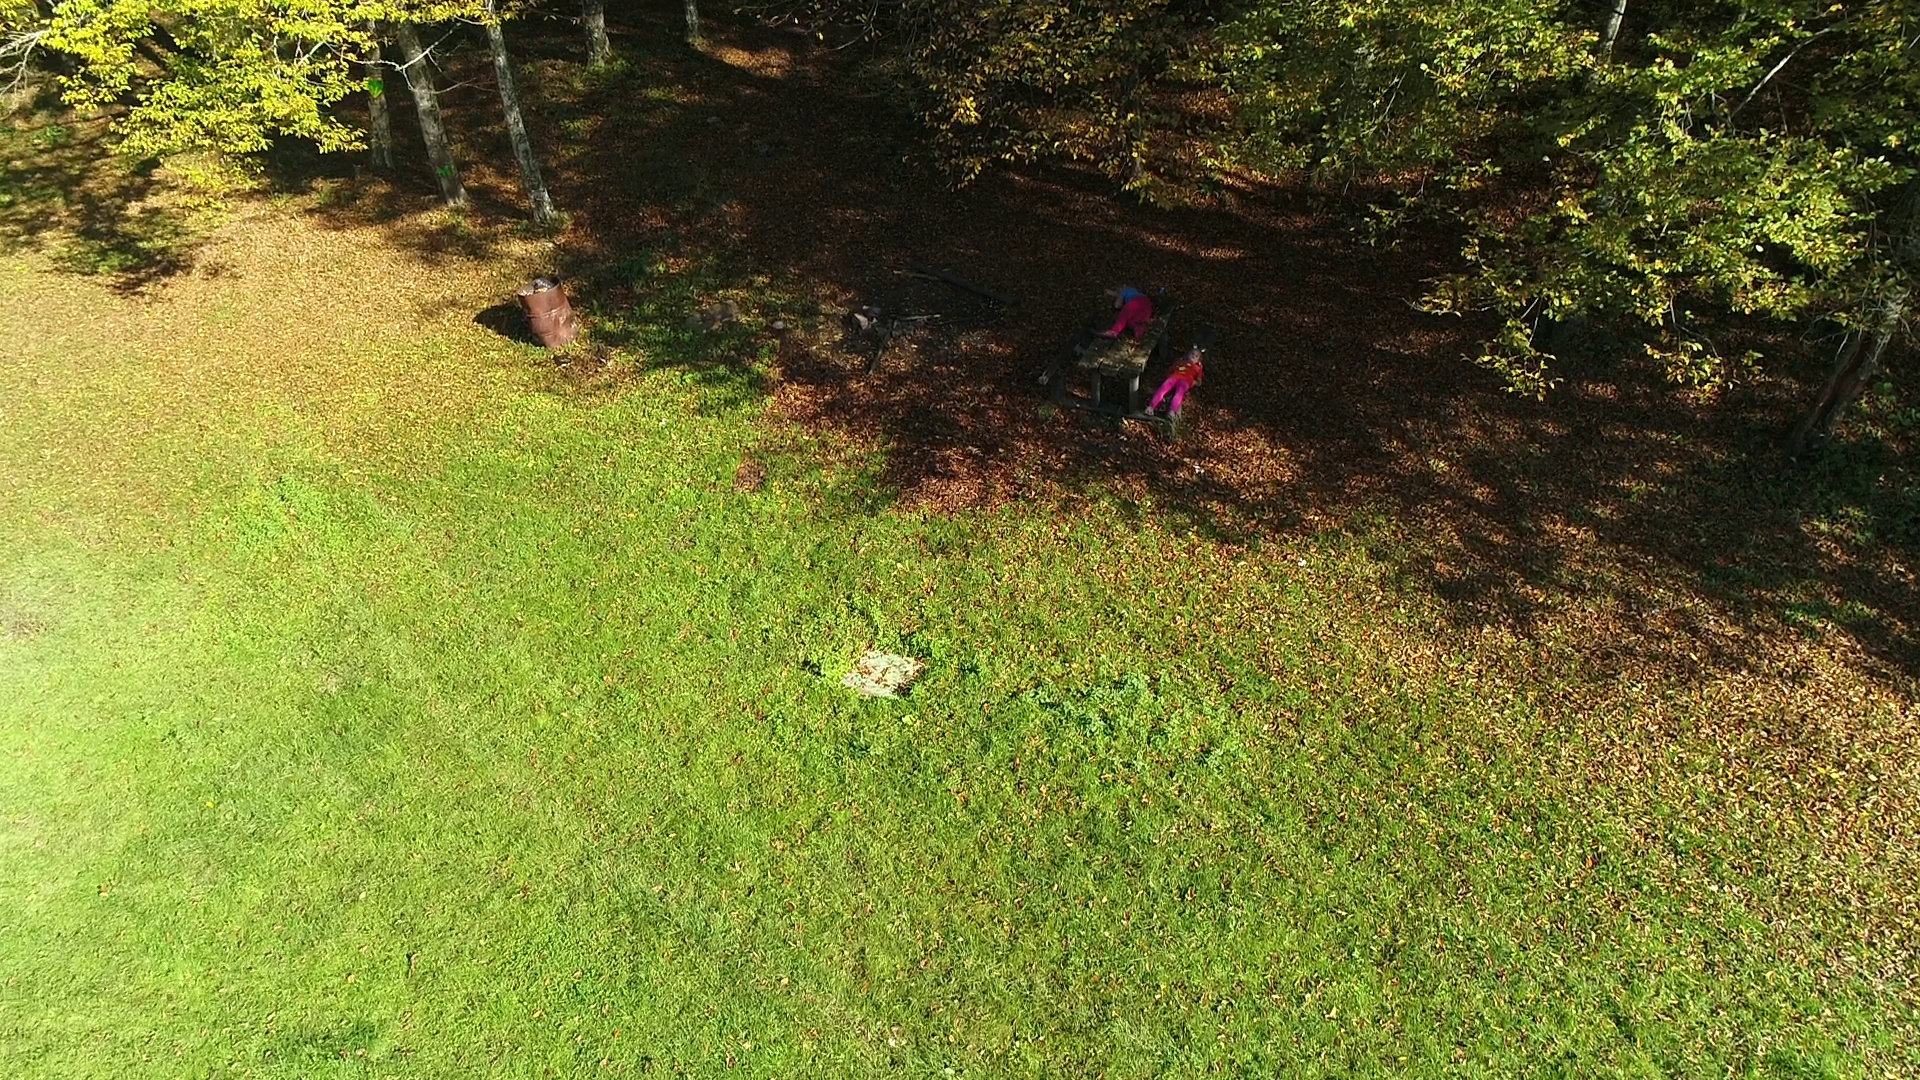person: (1143, 348, 1204, 413), (1098, 283, 1154, 345)
